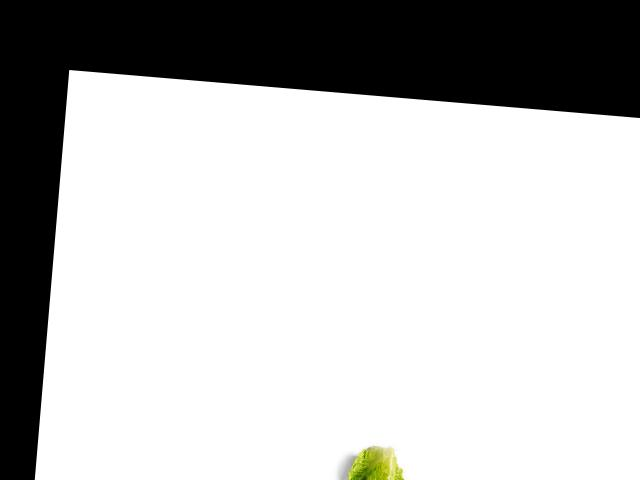lettuce: (341, 436, 409, 480)
